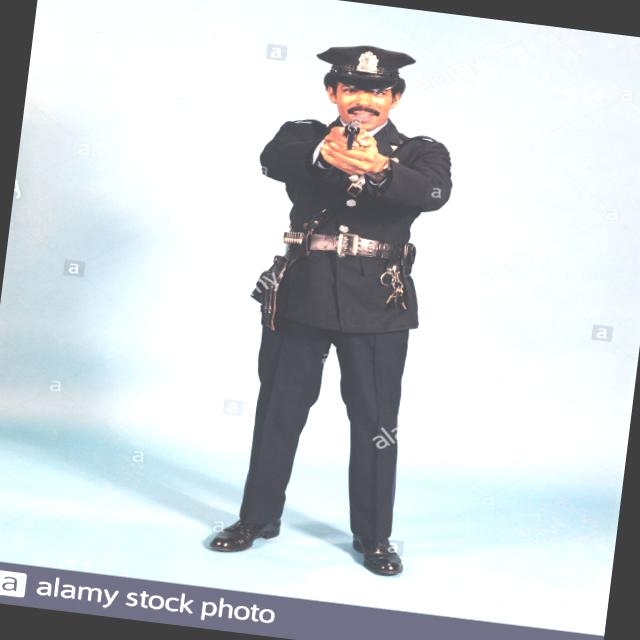handgun: (332, 112, 364, 150)
